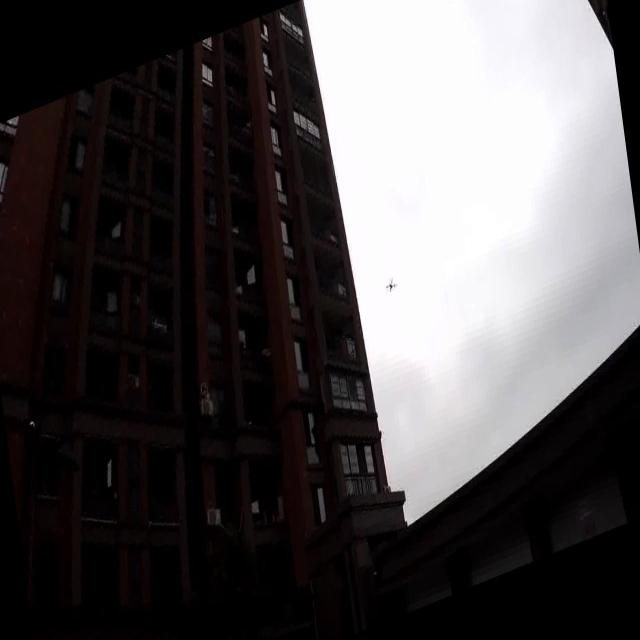drone: (382, 272, 401, 303)
